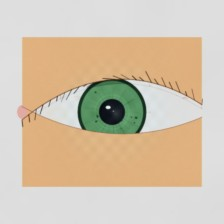pinguecula_lesion: (33, 94, 83, 134)
